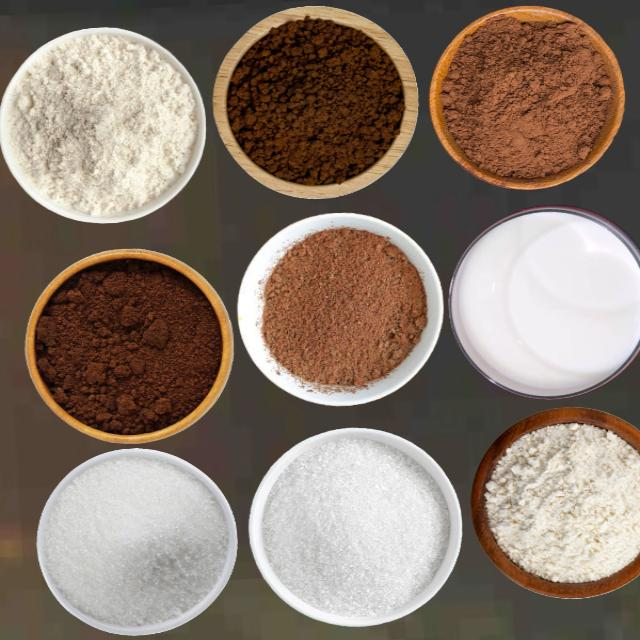Cocoa: (430, 13, 628, 175), (260, 225, 427, 392)
Coffee: (32, 255, 223, 436), (226, 15, 405, 186)
Flour: (5, 31, 196, 216), (483, 421, 639, 583)
Sugar: (261, 437, 449, 618), (40, 456, 228, 627)
